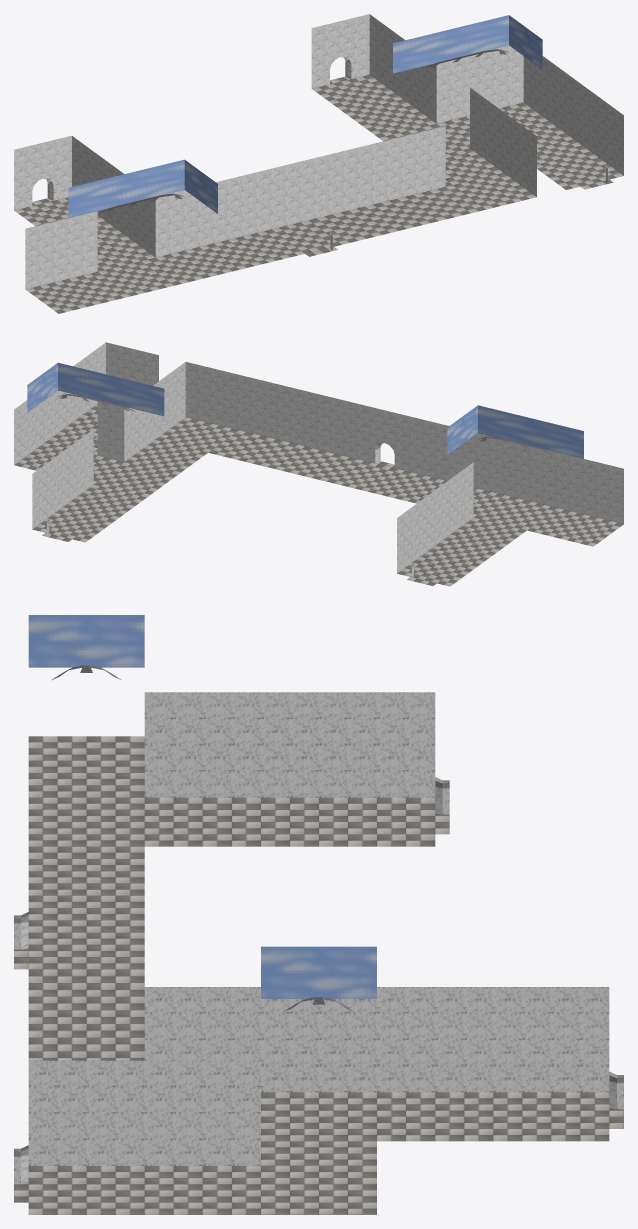
The model's file is Hallway9.glb.
3 renders of one model, top to bottom at view 1: azimuth 30°, elevation 25°; view 2: azimuth 150°, elevation 25°; view 3: azimuth 270°, elevation 25°, orthographic. The views are drawn at different scales.
Parts seen in each view (by area): view 1: Walls.008, Floor.007, Sky.007, Ceiling.008; view 2: Walls.008, Floor.007, Sky.007, Ceiling.008; view 3: Walls.008, Floor.007, Sky.007.
Boxes of the visible parts, x1,y1,x2,y2 form: Walls.008: (14,14,623,289); Floor.007: (14,75,623,313); Sky.007: (68,15,542,217); Ceiling.008: (99,49,508,213); Walls.008: (14,342,623,580); Floor.007: (14,404,623,586); Sky.007: (27,362,583,458); Ceiling.008: (58,394,555,454); Walls.008: (14,692,623,1182); Floor.007: (14,736,623,1214); Sky.007: (28,615,376,998).
Size of the model in its own units: 39 by 6 by 21.
Materials: 4 (4 with a texture image).
